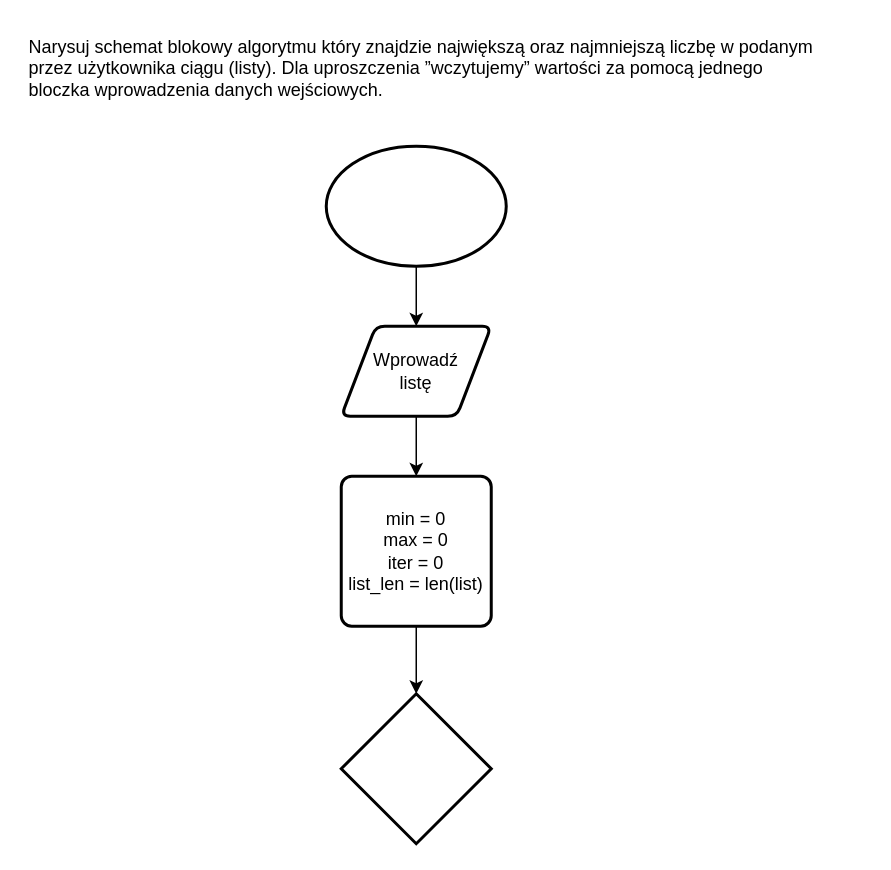
Some shapes in this 891 by 870 pixel diagram are drawn without their labels. The shapes that lost their labels are listed below. From the top down, each one's centre as x and y in pixels, then its label:
point (415, 205): START
point (415, 768): min > list[iter]
